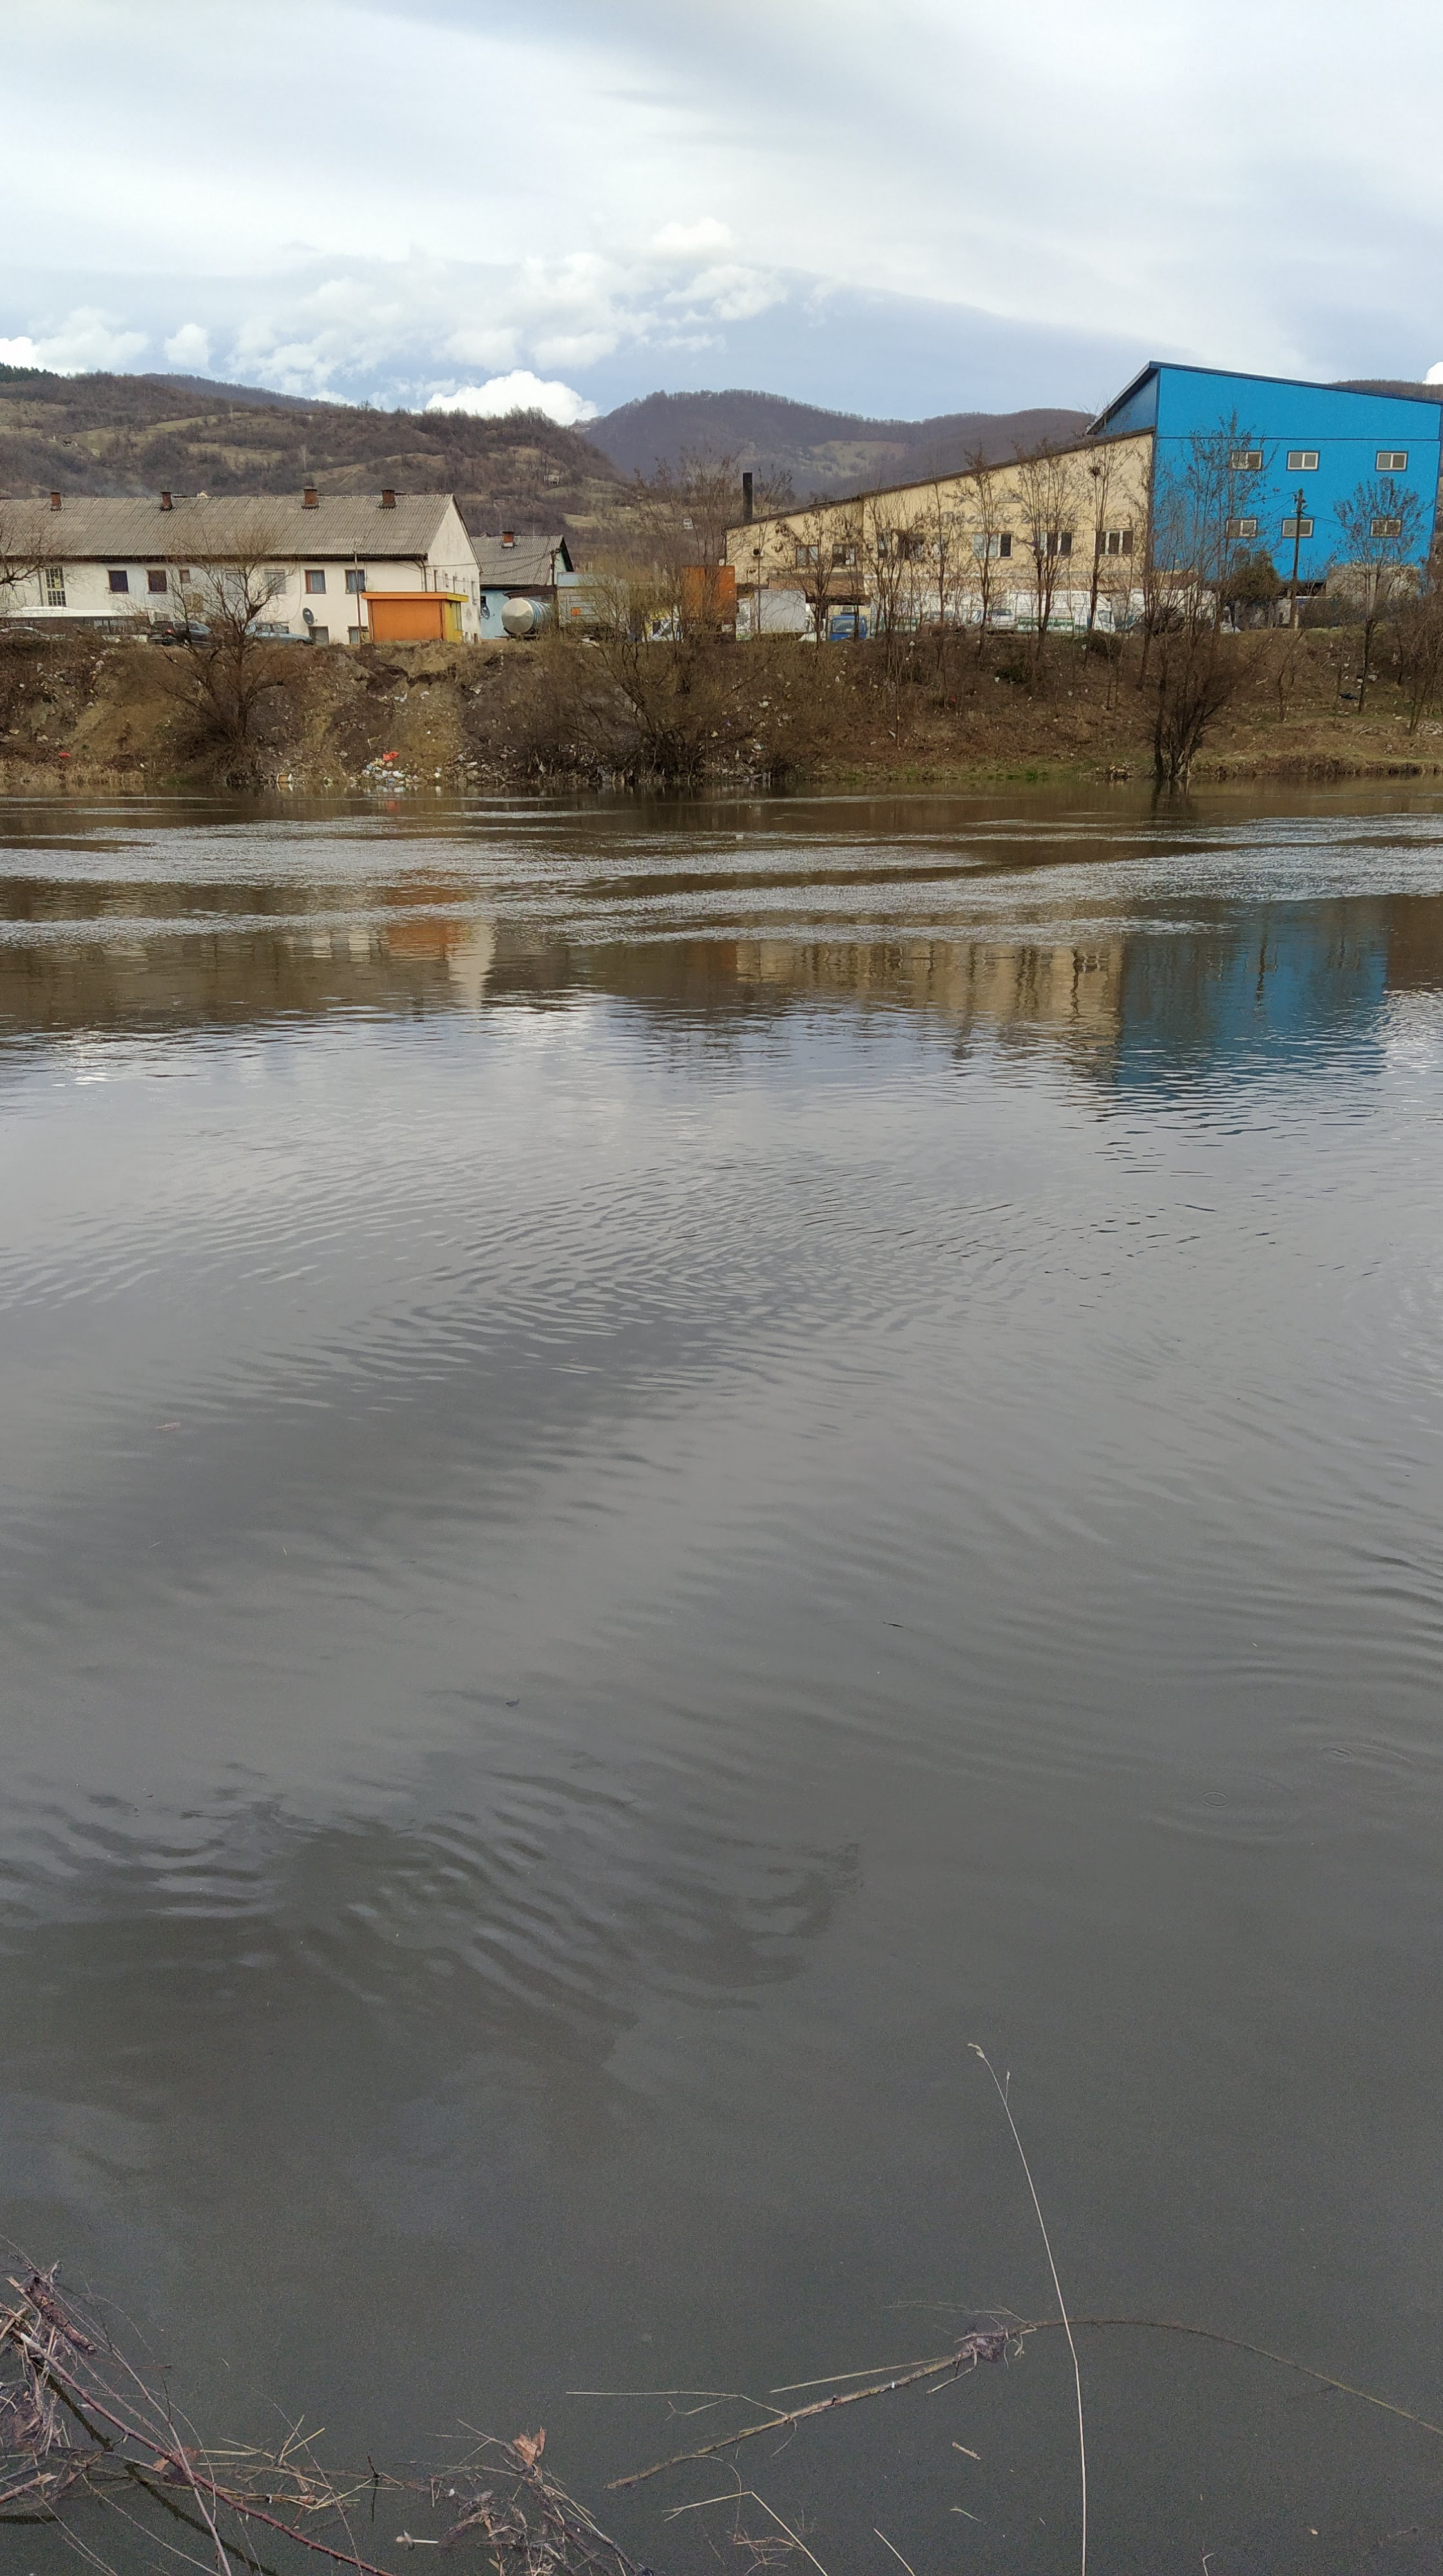Plastic Bottle: (737, 833, 744, 839)
